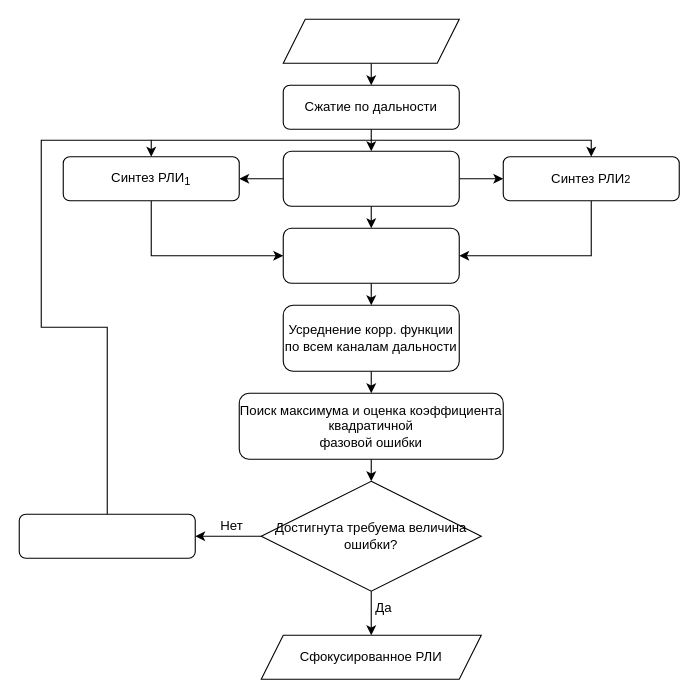
Image size: 699x699. Some labels were removed from this diagram. Each missing label, with the centre of its shape:
Вычисление поправок к опорным функциям: the point at 106,535
Голограмма: the point at 370,40
Деление на две подапертуры A 1 и A 2: the point at 370,178
Расчёт корреляционной функции: the point at 370,255
